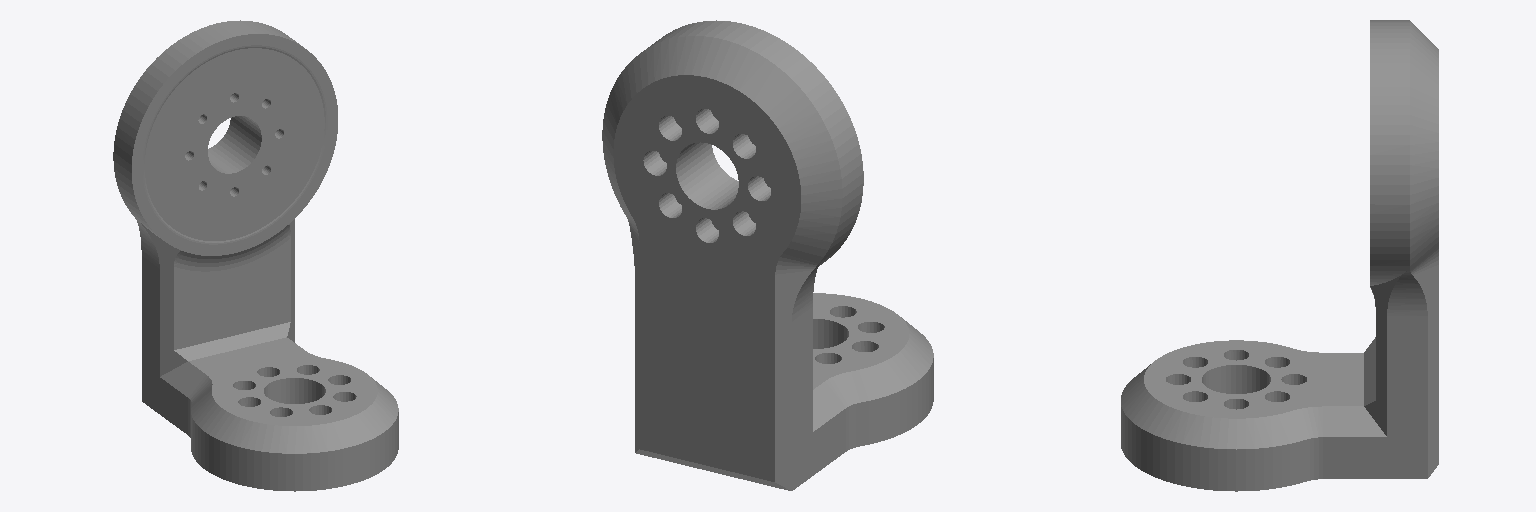
robot.urdf — olv-owl01:
<?xml version="1.0" ?>
<!-- =================================================================================== -->
<!-- |    This document was autogenerated by xacro from urdf/olv-owl01.urdf            | -->
<!-- |    EDITING THIS FILE BY HAND IS NOT RECOMMENDED                                 | -->
<!-- =================================================================================== -->
<robot name="olv-owl01">
  <link name="olv_srv01_base_link">
    <visual>
      <geometry>
        <mesh filename="package://olive_components_description/meshes/olv-srv01.dae"/>
      </geometry>
    </visual>
    <collision>
      <geometry>
        <box size="0.06 0.06 0.046"/>
      </geometry>
    </collision>
  </link>
  <link name="base_link">
    <visual>
      <geometry>
        <mesh filename="package://olive_owl_description/meshes/olv-owl01-lbracket.dae"/>
      </geometry>
    </visual>
    <collision>
      <geometry>
        <box size="0.046 0.055 0.078"/>
      </geometry>
      <origin rpy="0 0 0" xyz="0 0.008 0.039"/>
    </collision>
  </link>
  <joint name="test_joint" type="continuous">
    <parent link="base_link"/>
    <child link="olv_srv01_base_link"/>
    <origin rpy="-1.57 0 0" xyz="0.0 0.08 0.023"/>
    <axis xyz="0 0 1"/>
  </joint>
</robot>

--- What the picture shows (computed from the rendered views, not written in the file) ---
3 views of the same robot in one strip: view 1: azimuth 30°, elevation 25°; view 2: azimuth 150°, elevation 25°; view 3: azimuth 270°, elevation 25° (orthographic).
Robot: olv-owl01 — 2 links, 1 joints (1 continuous); root link base_link; default pose: all joints at 0.
Visible links, largest first — view 1: base_link; view 2: base_link; view 3: base_link.
Boxes of the visible links, x1,y1,x2,y2 form: base_link: (113,20,398,491); base_link: (602,20,933,490); base_link: (1121,20,1438,491).
Bounding box of the posed robot: 0.046 × 0.055 × 0.078 m (x, y, z).
1 mesh visuals loaded from 2 distinct referenced files (1 Collada DAE); not drawn: 1 (reference not matched to a file when rendering).